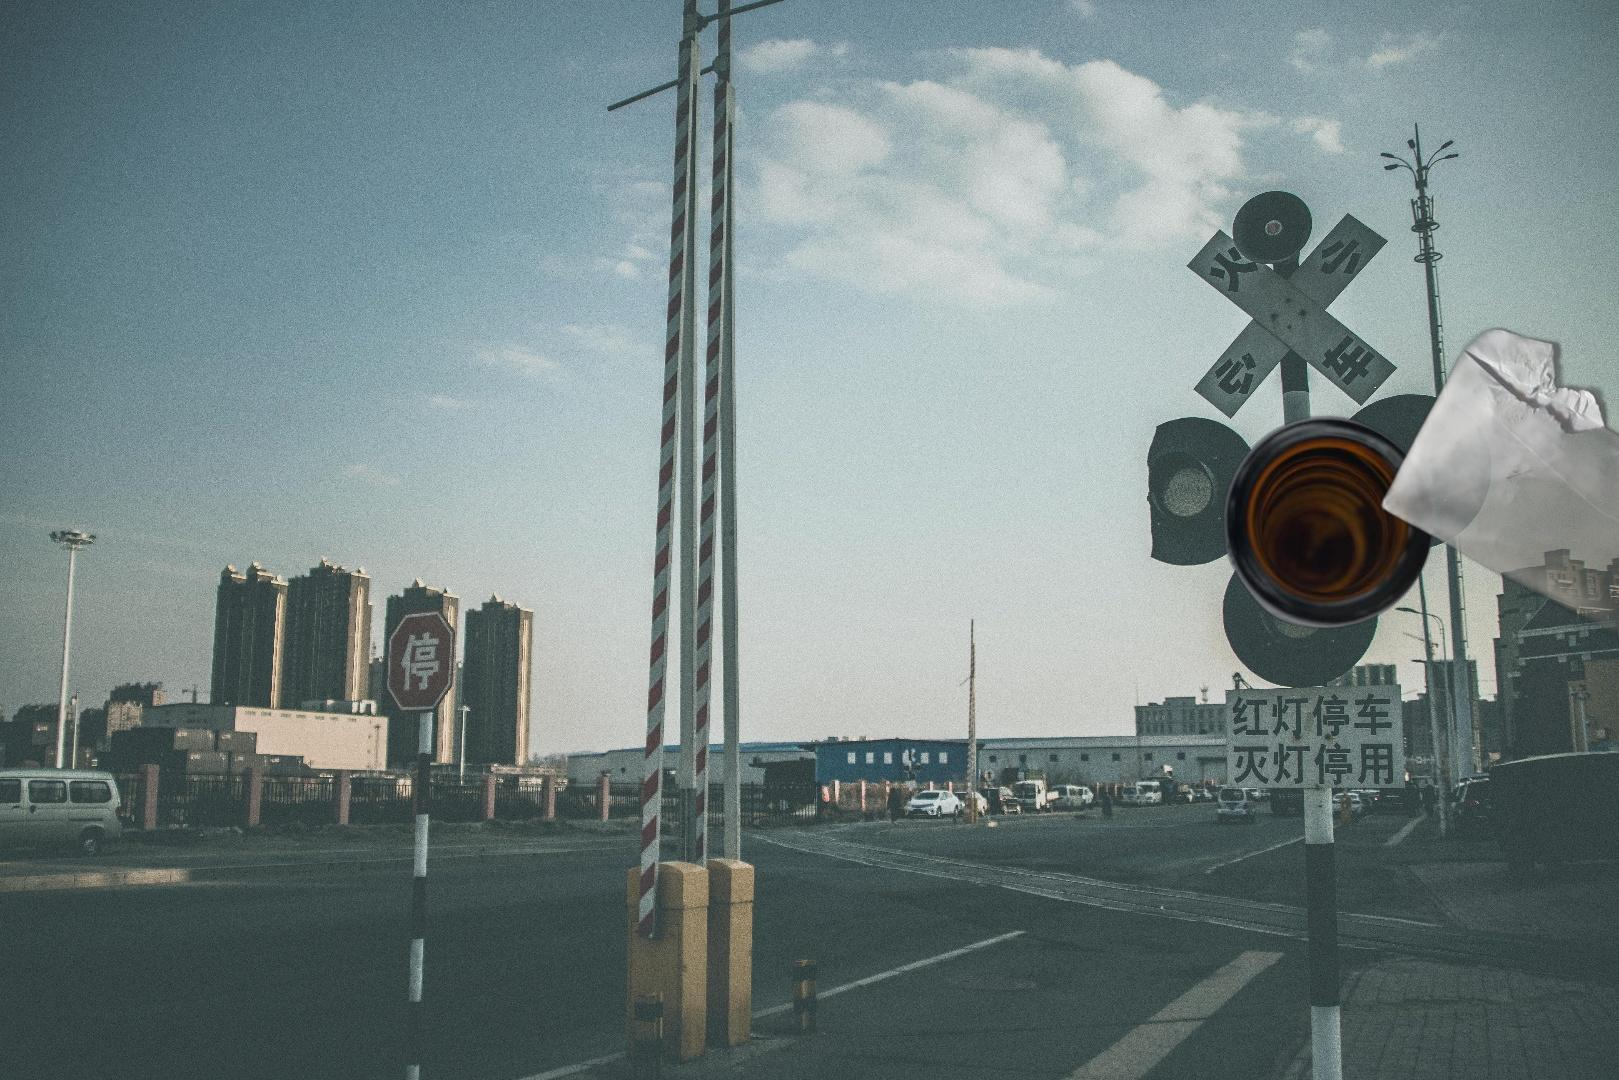glass: (1219, 414, 1438, 631)
paper: (1341, 322, 1619, 671)
